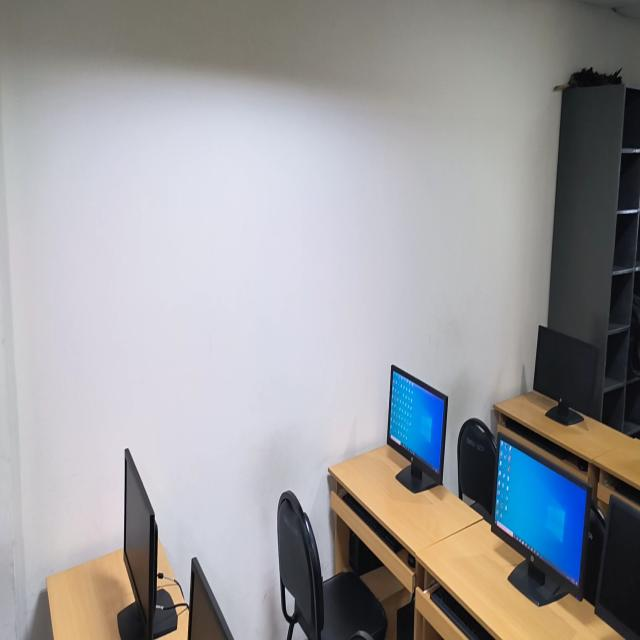Chair: (276, 492, 380, 634), (457, 416, 494, 515)
Keyboard: (429, 585, 482, 640)
Monitor: (491, 440, 588, 605), (116, 448, 162, 640), (387, 362, 448, 490), (534, 323, 598, 423), (597, 493, 639, 640), (182, 560, 234, 640)
